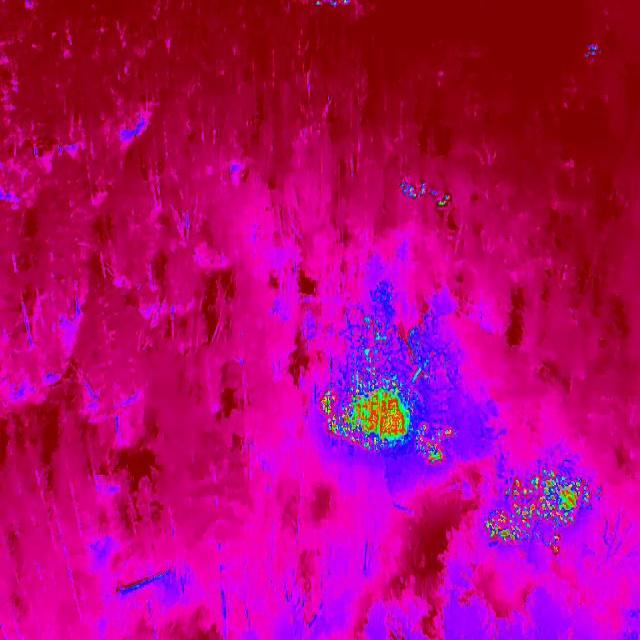fire: (484, 468, 590, 554), (319, 370, 413, 450), (390, 177, 455, 219), (417, 424, 452, 464)
